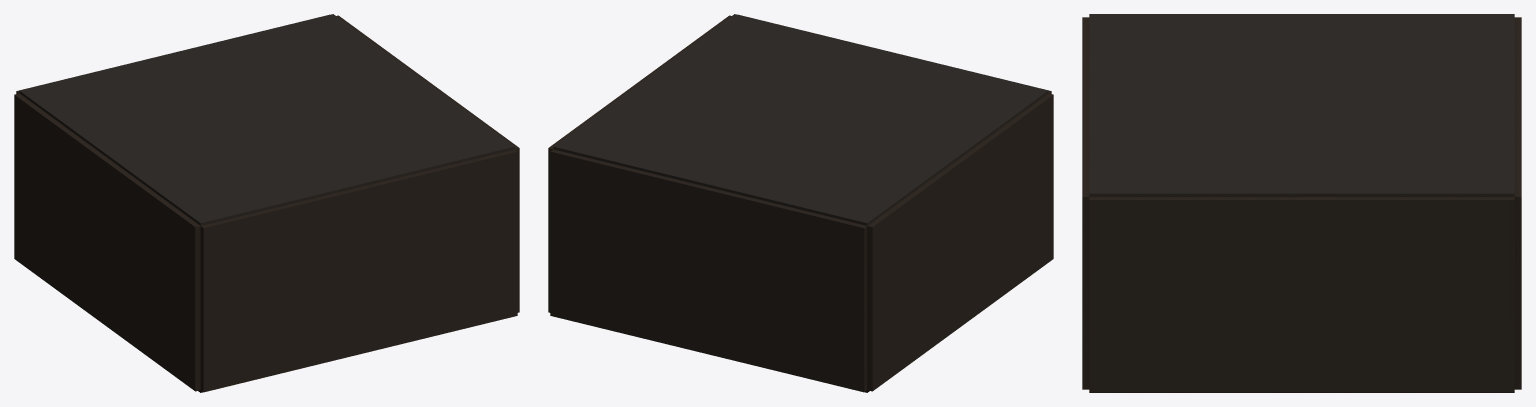
Rendered from cafe_sample.glb.
3 renders of one model, left to right at view 1: azimuth 30°, elevation 25°; view 2: azimuth 150°, elevation 25°; view 3: azimuth 270°, elevation 25°, orthographic. The views are drawn at different scales.
Parts seen in each view (by area): view 1: Bake_Shell; view 2: Bake_Shell; view 3: Bake_Shell, Bake_Floor.
Boxes of the visible parts, bbox=[...] form: Bake_Shell: bbox=[14, 14, 519, 392]; Bake_Shell: bbox=[548, 14, 1053, 392]; Bake_Shell: bbox=[1082, 14, 1521, 392]; Bake_Floor: bbox=[1089, 392, 1514, 392].
Bounding box in the file's own units: 6.2 × 3.1 × 6.2.
Materials: 3 (3 with a texture image).
